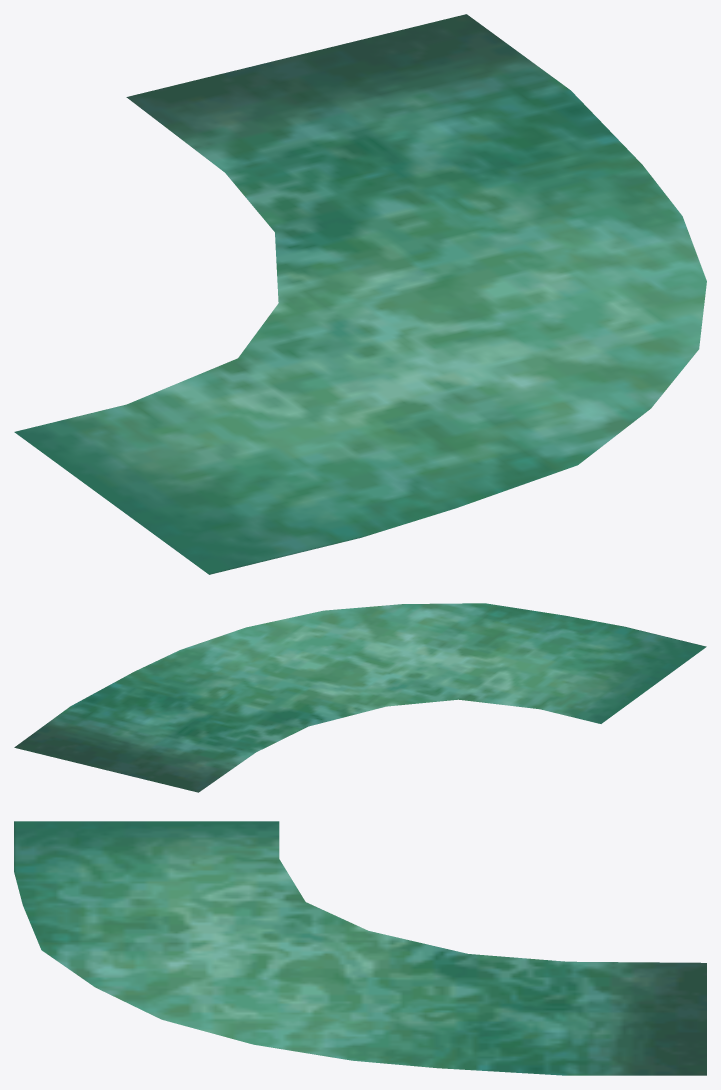
Rendered from a_wate_1.glb.
3 renders of one model, top to bottom at view 1: azimuth 30°, elevation 25°; view 2: azimuth 150°, elevation 25°; view 3: azimuth 270°, elevation 25°, orthographic. The views are drawn at different scales.
Visible parts, largest first — view 1: a_wate_1; view 2: a_wate_1; view 3: a_wate_1.
Boxes of the visible parts, bbox=[...] form: a_wate_1: bbox=[14, 14, 706, 574]; a_wate_1: bbox=[14, 603, 706, 792]; a_wate_1: bbox=[14, 821, 706, 1075].
Size of the model in its own units: 681 by 0 by 784.
Materials: 1 (1 with a texture image).
